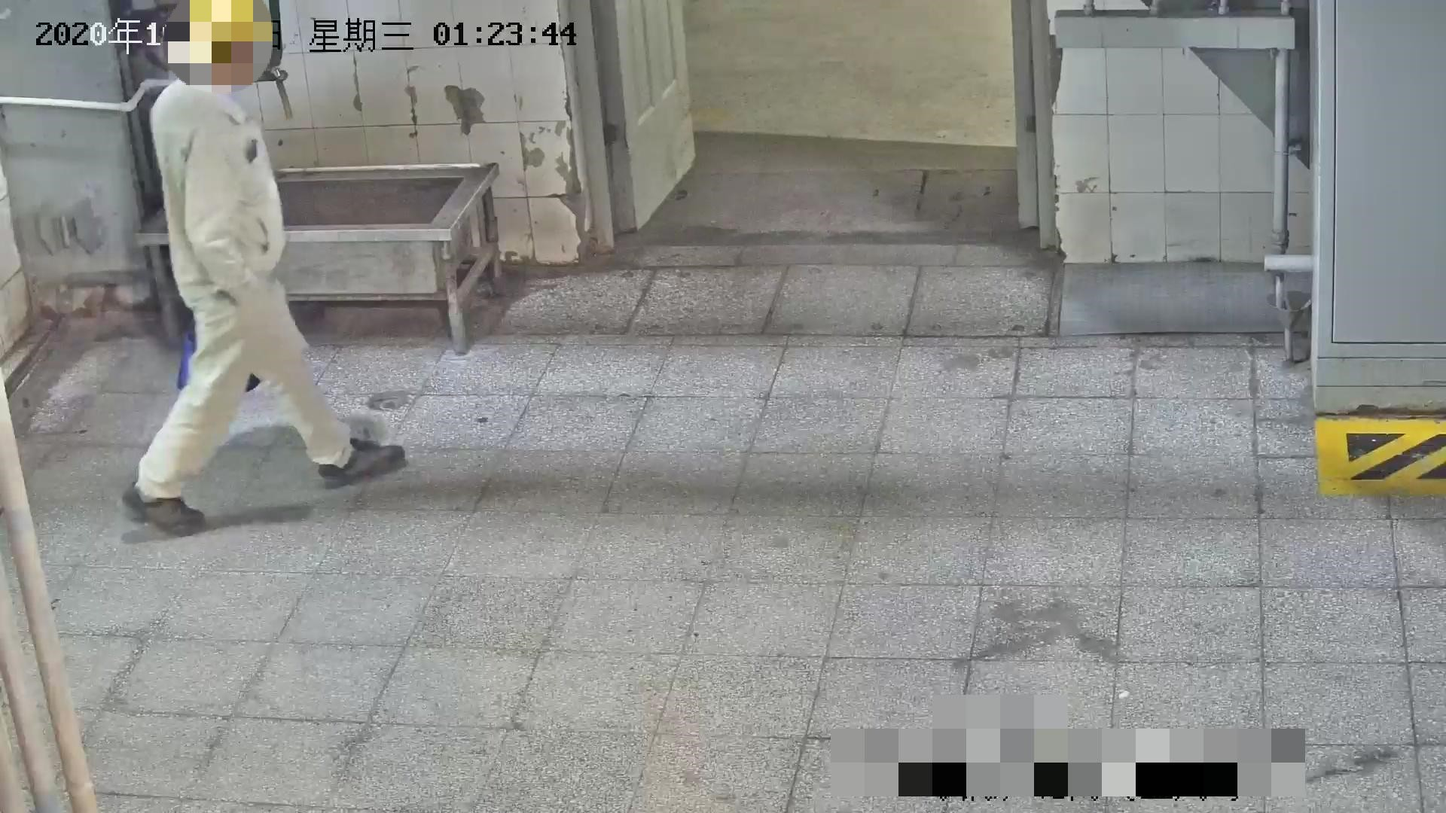hat: (178, 2, 267, 74)
person: (114, 2, 412, 538)
